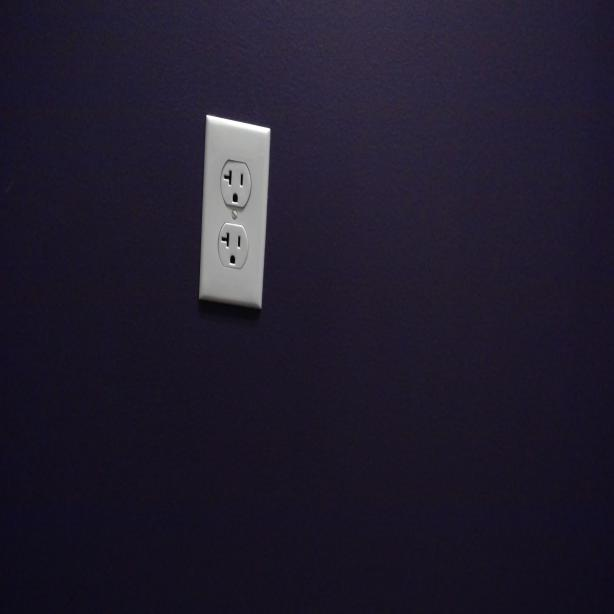typeb: (220, 159, 251, 207), (217, 228, 247, 270)
